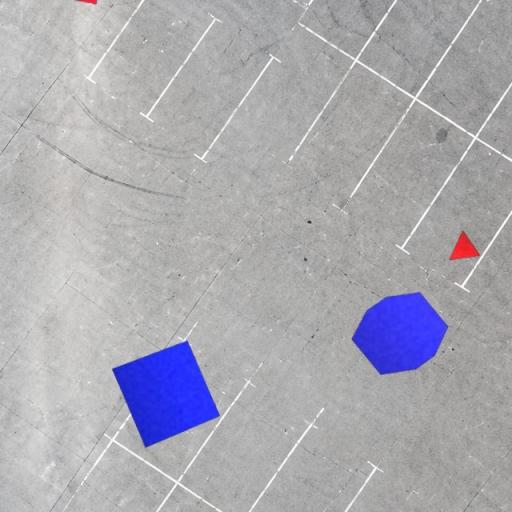BLUE_SQUARE: (111, 340, 221, 449)
